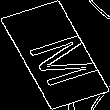M_NE: (12, 24, 98, 86)
